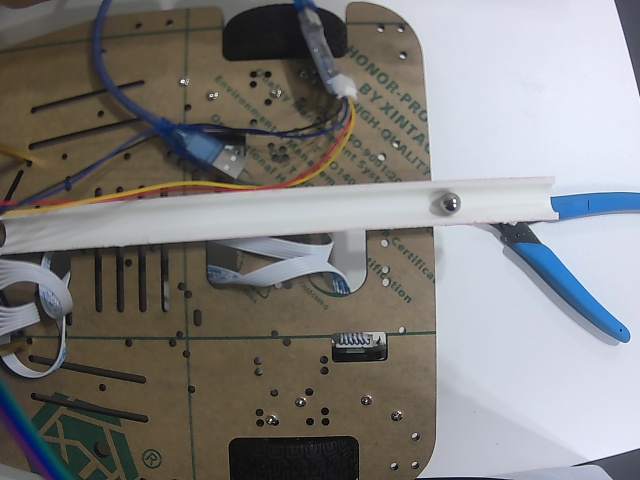steelball: (439, 192, 462, 213)
